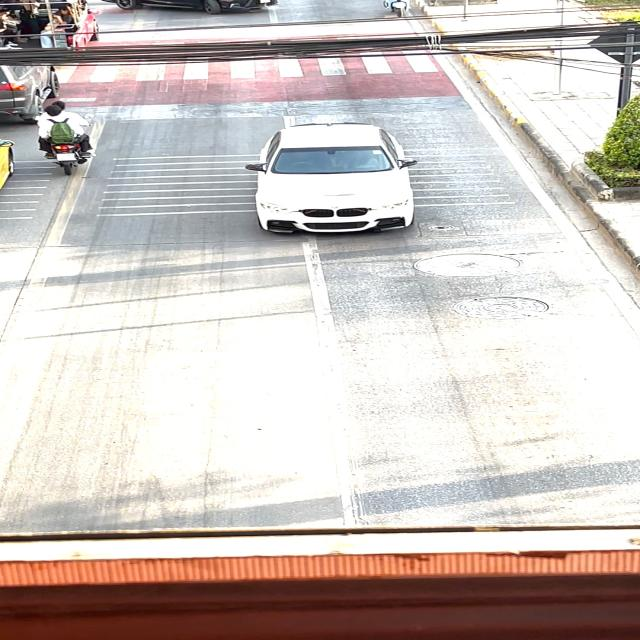car: (244, 114, 418, 263)
